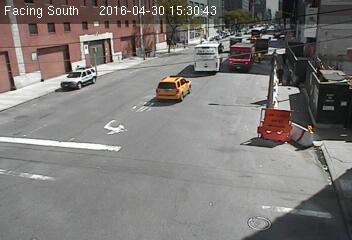neg: (309, 52, 342, 96), (216, 157, 247, 198), (147, 168, 172, 202), (73, 145, 98, 178), (162, 69, 185, 100), (208, 86, 231, 116), (104, 41, 126, 71), (261, 112, 283, 140), (236, 19, 257, 47), (72, 85, 93, 112), (27, 63, 47, 91)
pos: (273, 65, 285, 81)
